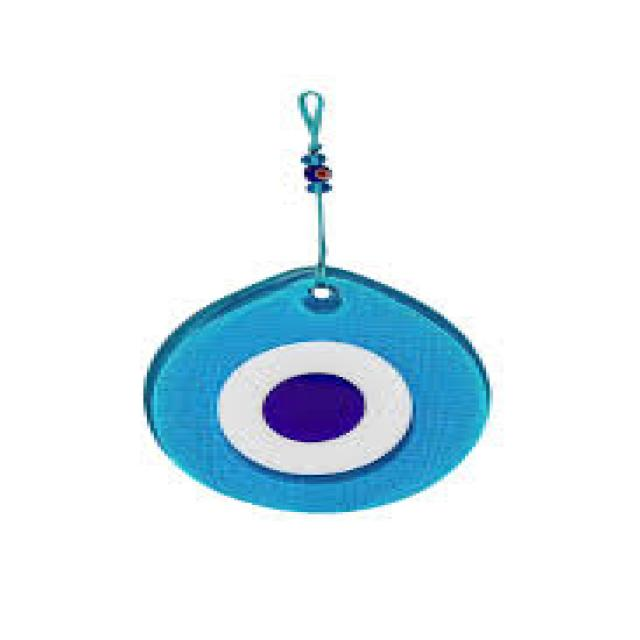Nazar-Boncugu: (143, 77, 493, 517)
